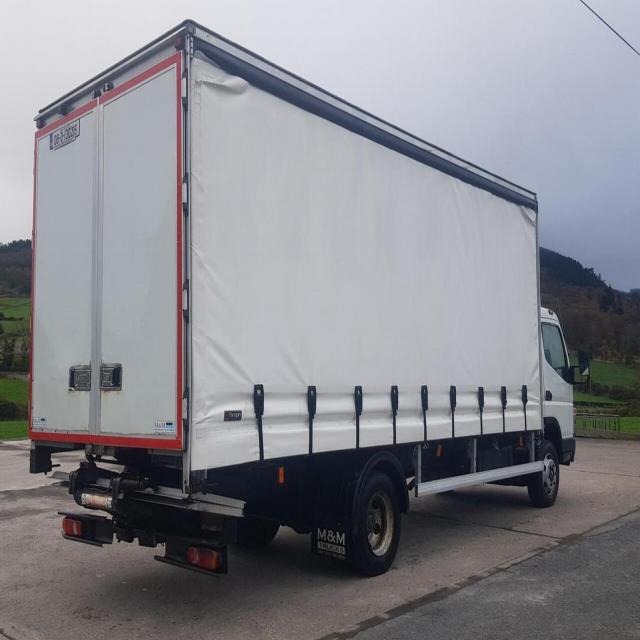truck: (32, 21, 588, 575)
